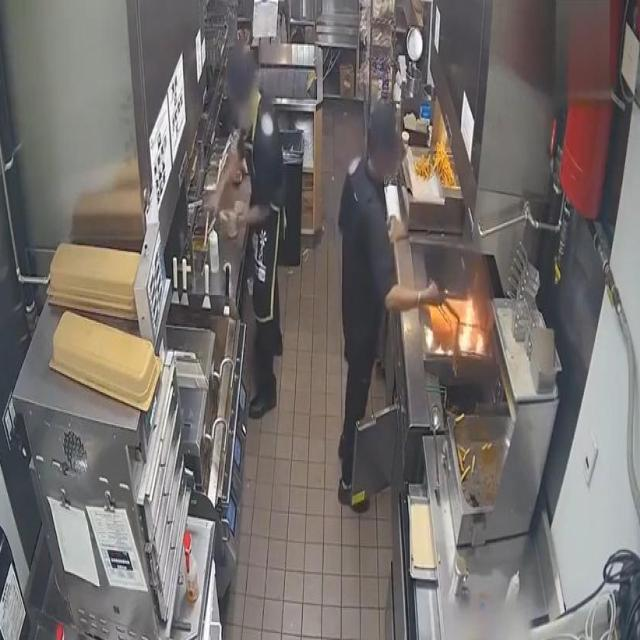smoke: (456, 295, 487, 356)
